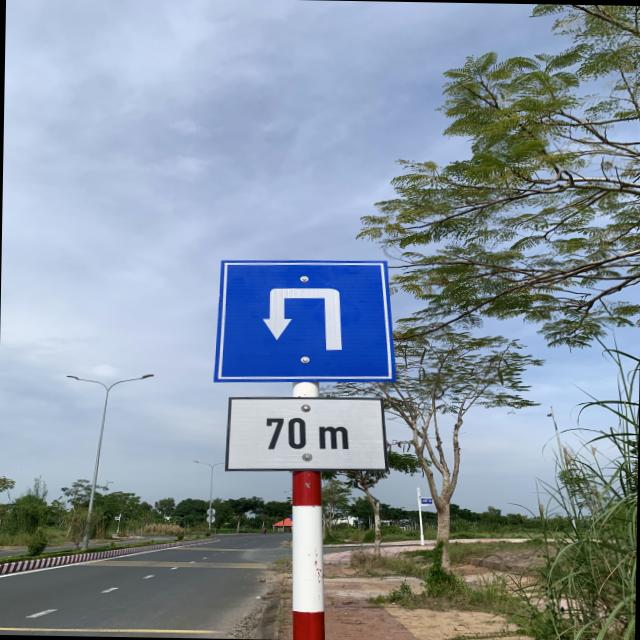Den_Giao_Thong: (215, 258, 396, 382)
